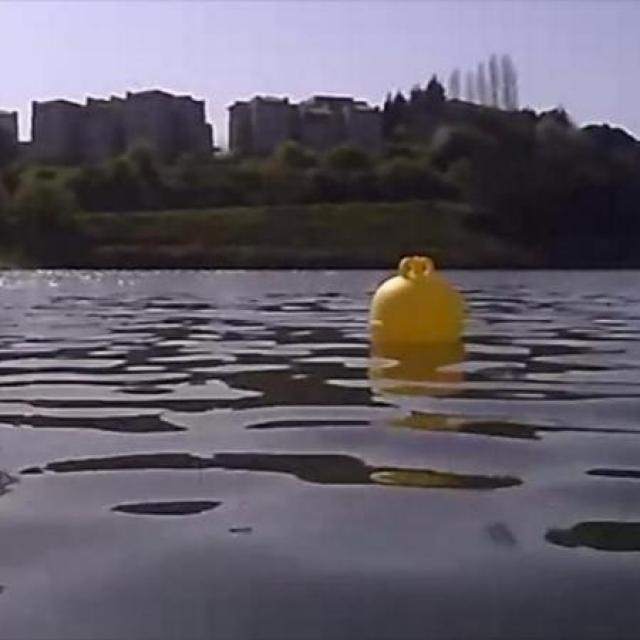buoy: (371, 258, 464, 342)
